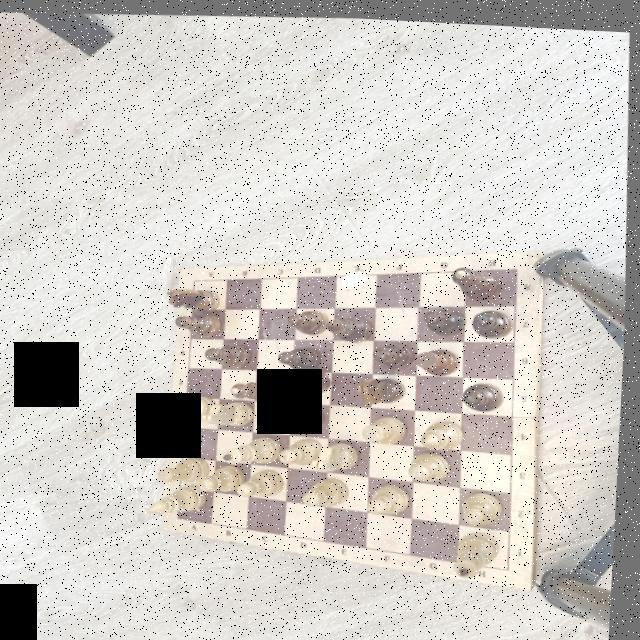chess-table-corners: (514, 258, 524, 264), (192, 274, 201, 280), (510, 560, 518, 566), (180, 512, 187, 518)
